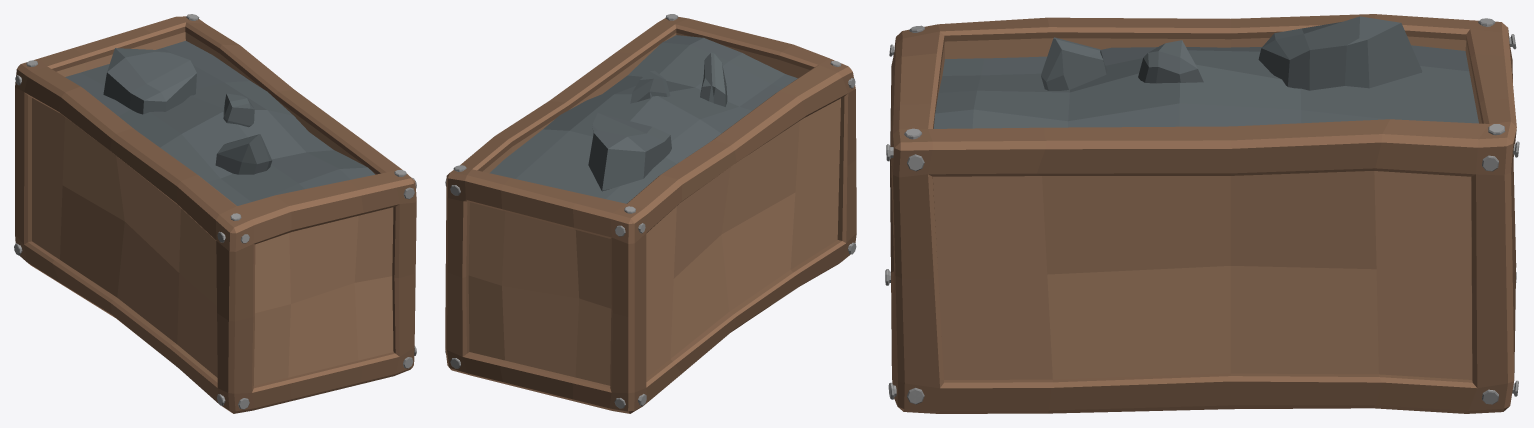
The model's file is Crate_Long_Grey.fbx.
The picture shows the model from 3 angles, left to right: view 1: azimuth 30°, elevation 25°; view 2: azimuth 150°, elevation 25°; view 3: azimuth 270°, elevation 25°; orthographic projection. The views are drawn at different scales.
Parts seen in each view (by area): view 1: Crate_Long_Grey, Grey; view 2: Crate_Long_Grey, Grey; view 3: Crate_Long_Grey, Grey.
Part boxes in pixels (x1,y1,x2,y2): Crate_Long_Grey: (14,14,416,413); Grey: (103,48,272,174); Crate_Long_Grey: (445,14,856,413); Grey: (588,52,727,191); Crate_Long_Grey: (885,14,1519,413); Grey: (1041,16,1422,90).
Bounding box in the file's own units: 71.1 × 78.72 × 142.
